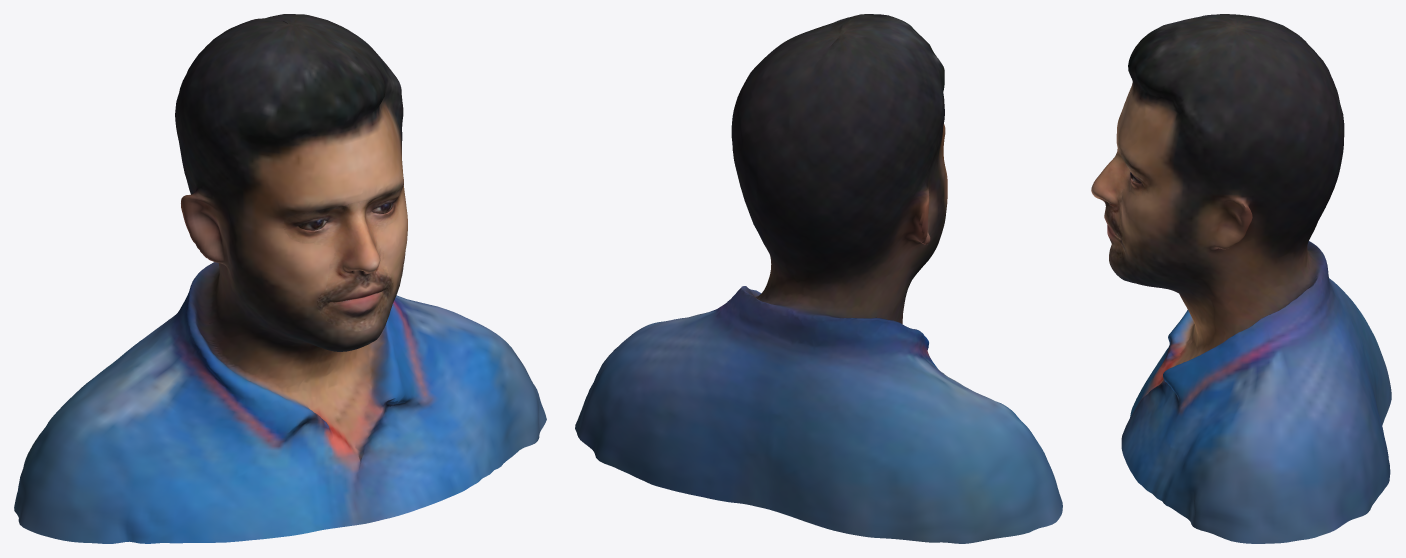
Rendered from rohit_sharma.glb.
3 views of the same model, side by side, from view 1: azimuth 30°, elevation 25°; view 2: azimuth 150°, elevation 25°; view 3: azimuth 270°, elevation 25° (orthographic). The views are drawn at different scales.
Visible parts, largest first — view 1: Object_2; view 2: Object_2; view 3: Object_2.
Boxes of the visible parts, box(x1,y1,x2,y2) form: Object_2: box(14, 14, 546, 543); Object_2: box(575, 14, 1062, 543); Object_2: box(1091, 14, 1391, 543).
Size of the model in its own units: 0.463 by 0.3971 by 0.2658.
1 material, 1 textured.
